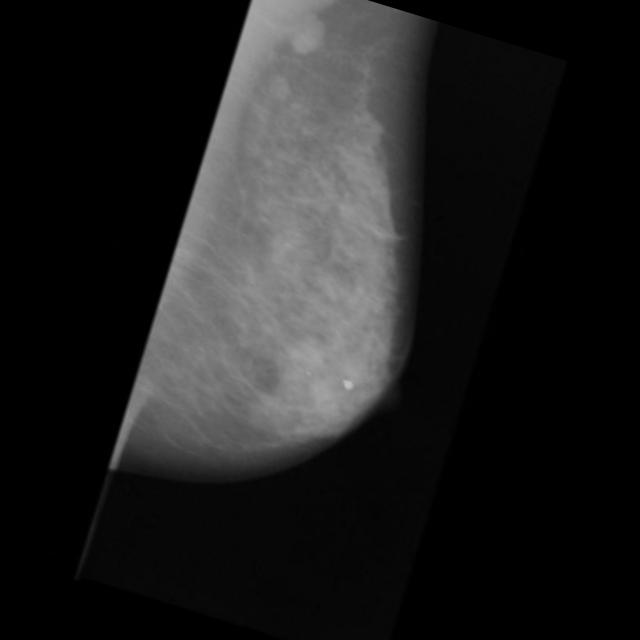CIRC: (250, 0, 362, 88)
